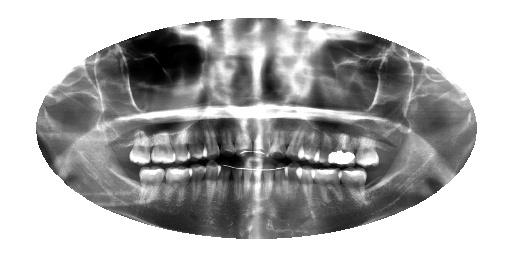Fillings: (328, 133, 355, 166)
